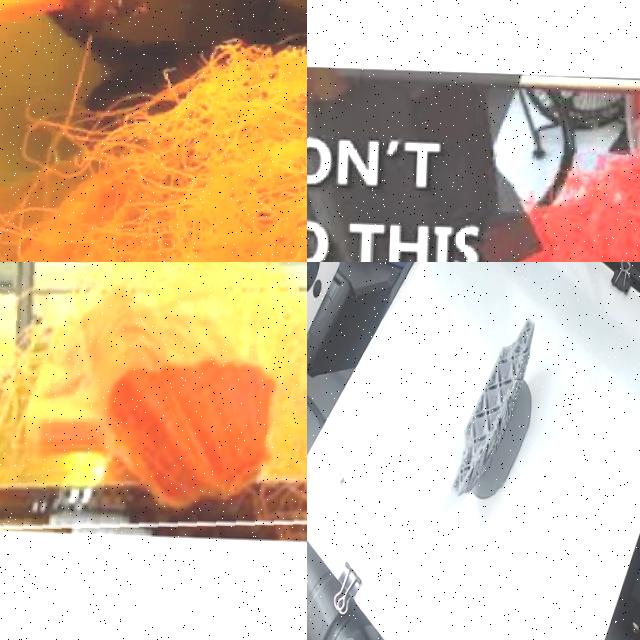spaghetti: (0, 262, 307, 552), (0, 35, 307, 262), (458, 149, 640, 262)
